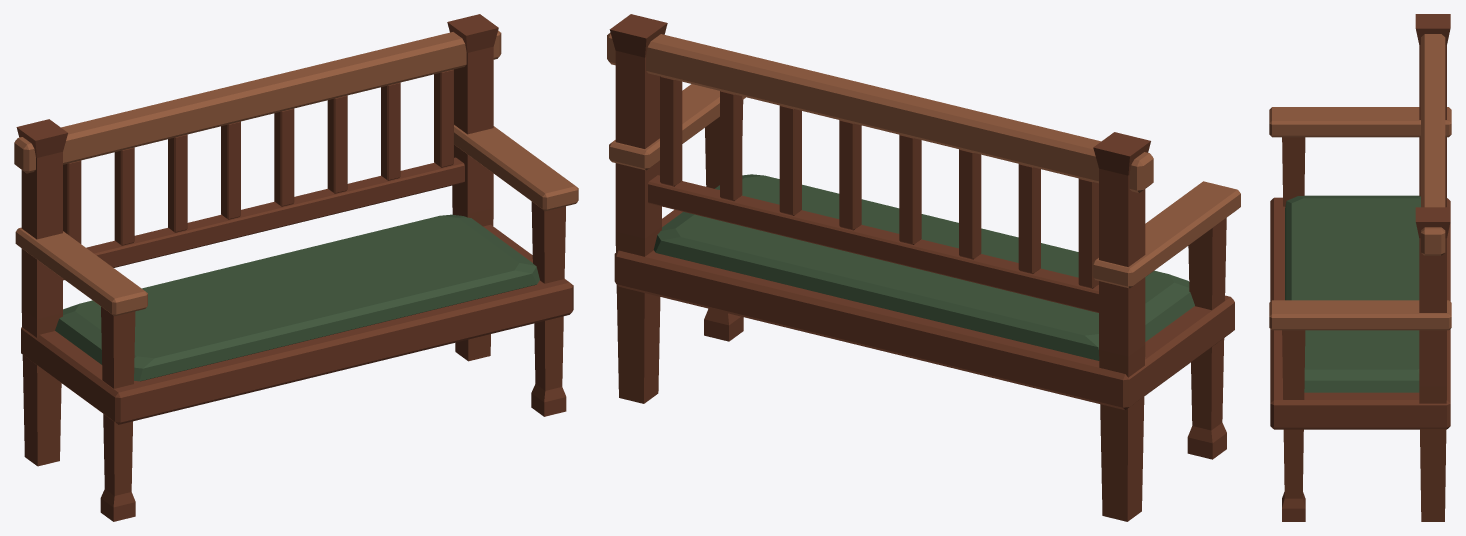
The model's file is bench_02.glb.
3 views of the same model, side by side, from view 1: azimuth 30°, elevation 25°; view 2: azimuth 150°, elevation 25°; view 3: azimuth 270°, elevation 25° (orthographic). The views are drawn at different scales.
Parts seen in each view (by area): view 1: LongCushion, SeatBase, BackTopRail, RearLeg, BackBottomRail, RearLeg_001, FrontLeg, FrontLeg_001, ArmRest, ArmRest_001, Slat_04, Slat_01 (+6 smaller); view 2: LongCushion, SeatBase, BackTopRail, RearLeg, RearLeg_001, BackBottomRail, FrontLeg, ArmRest, ArmRest_001, Slat_01, Slat_04, Slat_05 (+6 smaller); view 3: LongCushion, SeatBase, RearLeg_001, ArmRest_001, BackTopRail, ArmRest, FrontLeg_001, FrontLeg, RearLeg.
Boxes of the visible parts, x1,y1,x2,y2 form: LongCushion: (55,214,539,381); SeatBase: (21,224,573,424); BackTopRail: (14,30,501,173); RearLeg: (16,119,67,466); BackBottomRail: (63,157,464,280); RearLeg_001: (447,14,498,361); FrontLeg: (100,306,135,521); FrontLeg_001: (531,201,566,416); ArmRest: (15,227,147,316); ArmRest_001: (454,125,578,211); Slat_04: (274,108,294,206); Slat_01: (114,147,134,245); LongCushion: (653,174,1194,360); SeatBase: (614,209,1234,410); BackTopRail: (607,32,1153,193); RearLeg: (1093,132,1150,521); RearLeg_001: (609,14,667,403); BackBottomRail: (648,175,1098,312); FrontLeg: (1187,218,1226,459); ArmRest: (1092,181,1240,288); ArmRest_001: (609,84,745,170); Slat_01: (1018,164,1040,273); Slat_04: (839,120,861,230); Slat_05: (779,105,801,215); LongCushion: (1285,195,1420,392); SeatBase: (1270,197,1450,429); RearLeg_001: (1415,207,1450,521); ArmRest_001: (1269,300,1451,330); BackTopRail: (1421,34,1445,255); ArmRest: (1269,107,1451,137); FrontLeg_001: (1282,330,1305,521); FrontLeg: (1282,137,1305,206); RearLeg: (1415,14,1450,207).
Bounding box in the file's own units: 1.55 × 1.02 × 0.558.
